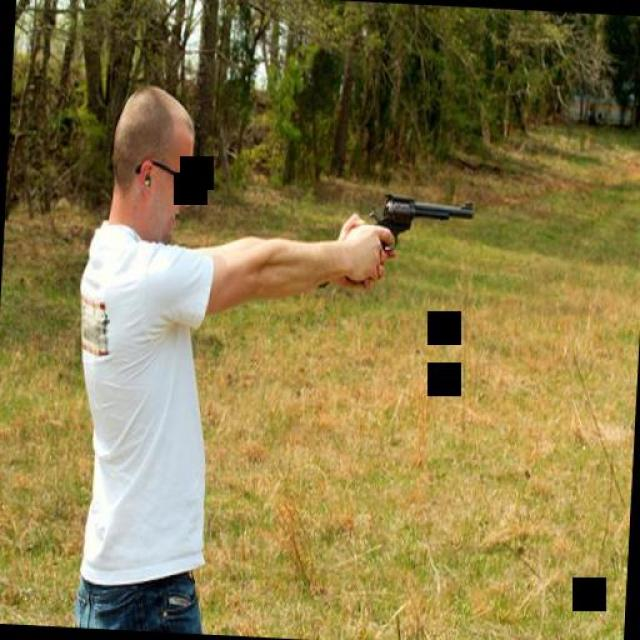gun: (363, 188, 475, 258)
